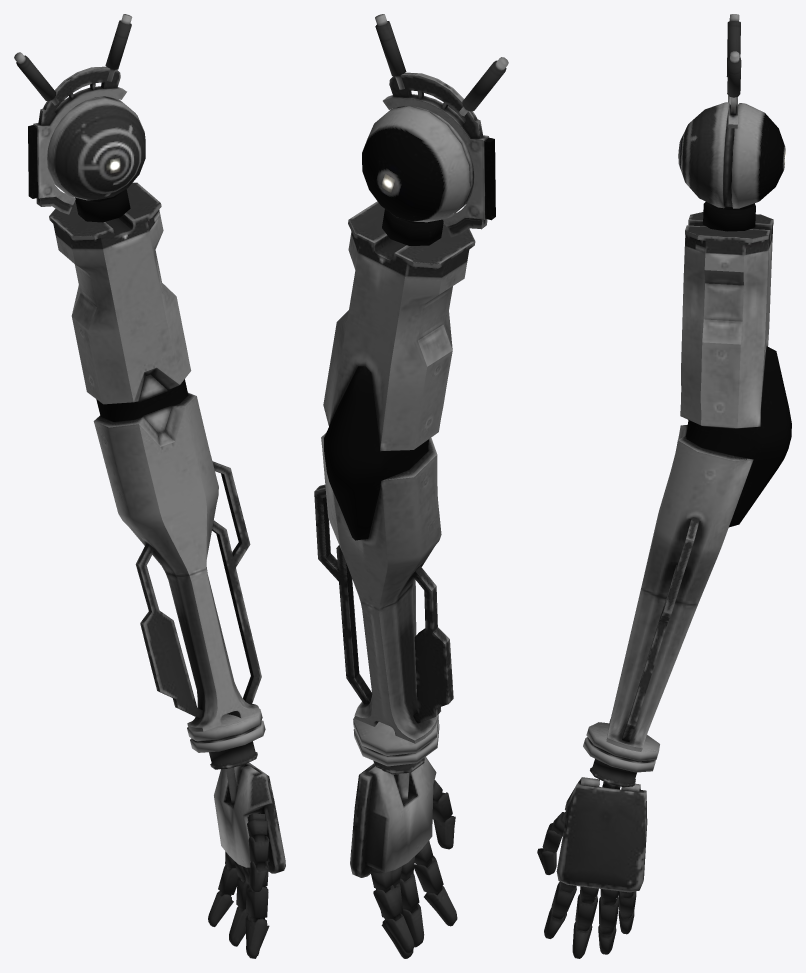
File: armL.gltf
3 renders of one model, left to right at view 1: azimuth 30°, elevation 25°; view 2: azimuth 150°, elevation 25°; view 3: azimuth 270°, elevation 25°, orthographic. The views are drawn at different scales.
Visible parts, largest first — view 1: MP_FRAME_ARM-L; view 2: MP_FRAME_ARM-L; view 3: MP_FRAME_ARM-L.
Part boxes in pixels (x1,y1,x2,y2): MP_FRAME_ARM-L: (14, 14, 285, 958); MP_FRAME_ARM-L: (314, 14, 508, 958); MP_FRAME_ARM-L: (537, 14, 791, 958).
Bounding box in the file's own units: 0.254 × 1.09 × 0.284.
